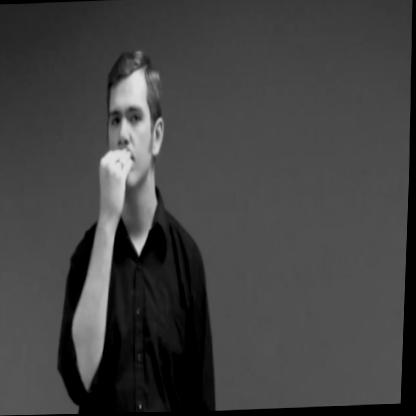Food: (96, 51, 174, 226)
